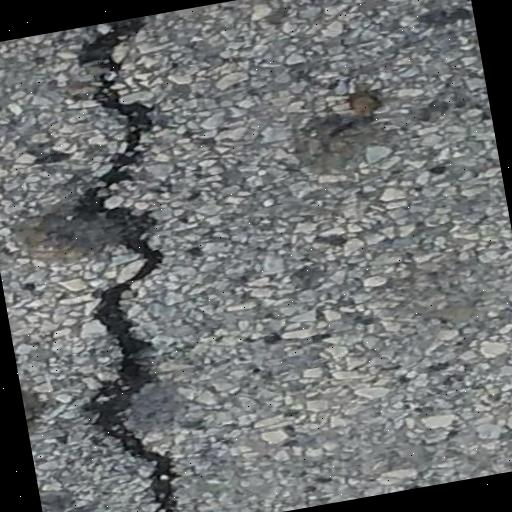spalling: (40, 20, 192, 512)
